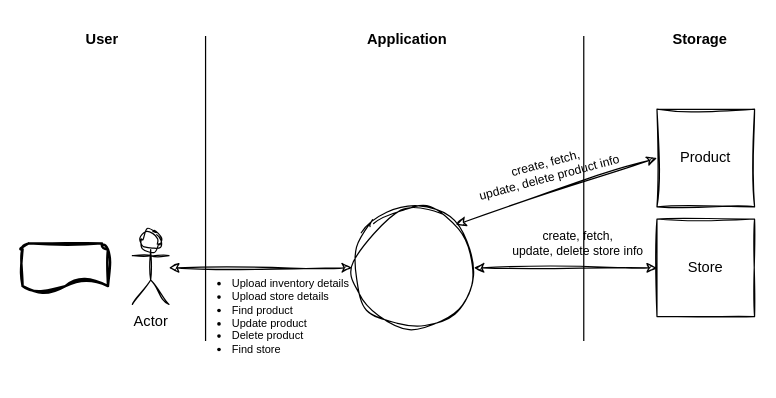
Some shapes in this 776 by 398 pixel diagram are drawn without their labels. Here are the shapes that lost their labels. From the top down, the box of each, then its label:
(21, 242, 109, 293): CSV File
(351, 206, 474, 329): Retail store Management System
